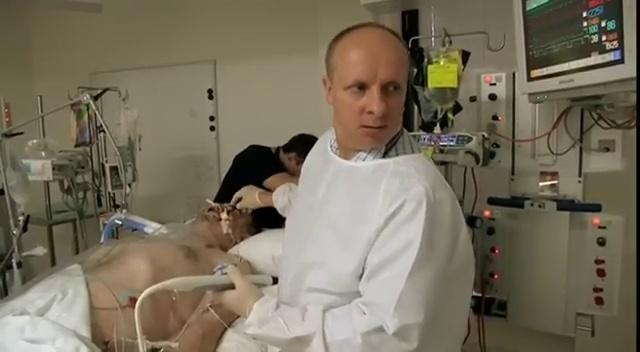doctor: (179, 21, 477, 351)
others: (203, 132, 325, 207)
patient: (0, 198, 270, 351)
